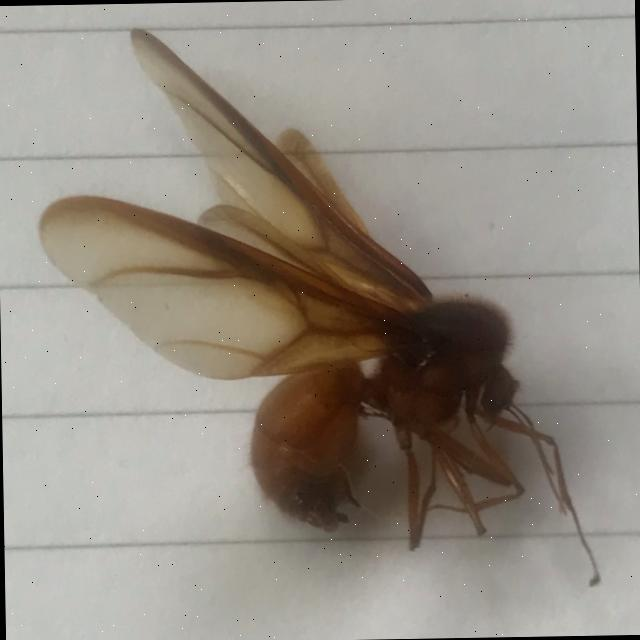Dead-Male-Alate: (34, 19, 602, 598)
